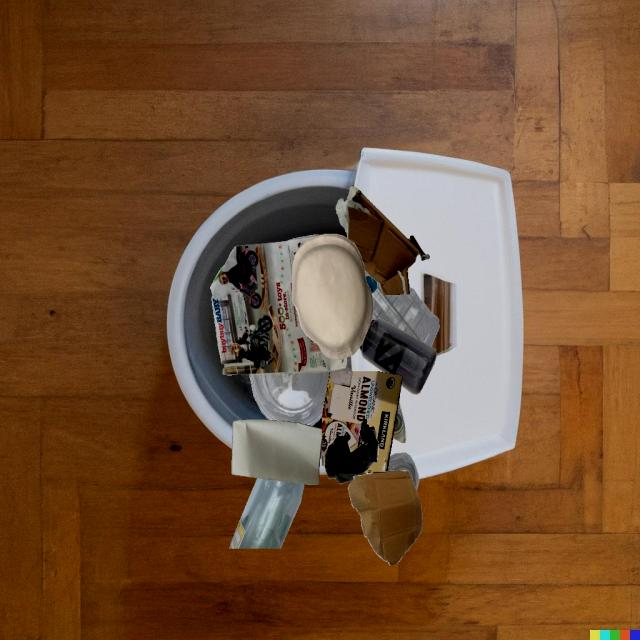cardboard: (336, 186, 430, 295), (322, 371, 403, 473), (348, 470, 423, 566)
glass: (230, 478, 304, 549), (393, 401, 406, 443)
paper: (210, 234, 348, 375), (292, 234, 373, 360), (231, 419, 322, 485)
plastic: (359, 318, 437, 395), (371, 281, 440, 347), (250, 371, 330, 426), (324, 419, 379, 484), (387, 452, 419, 491), (366, 276, 377, 294)
